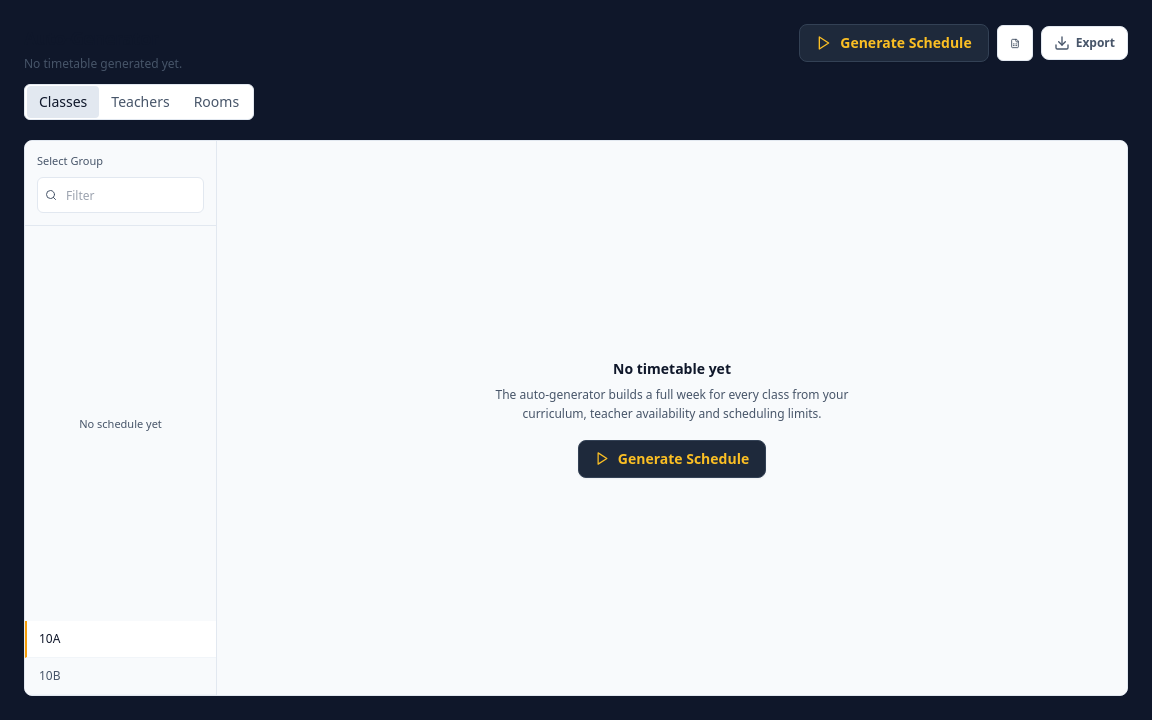
Test: GeneratorView › should toggle to teacher view
Switch to teacher view
Click the button "Teachers": (140, 102) [99, 86, 182, 118]
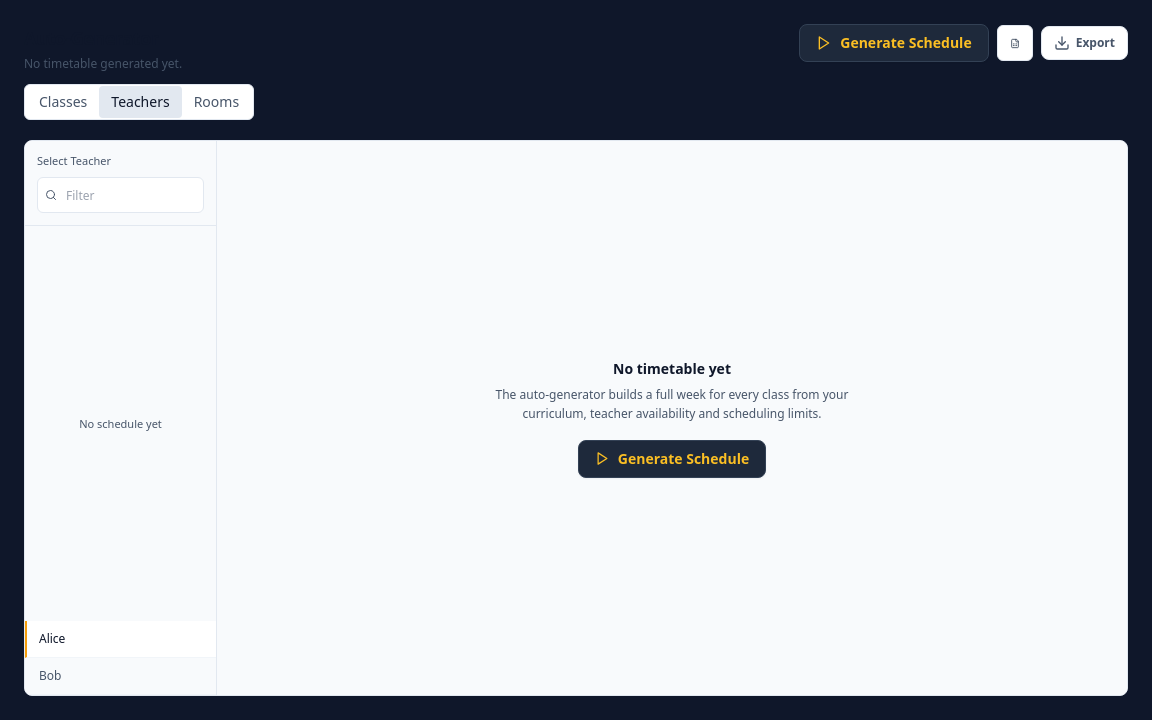
Expected: the text "Select Teacher" is shown, [37, 153, 111, 168]
Expected: the text "Alice" is shown, [39, 630, 65, 647]
Expected: the text "Bob" is shown, [39, 667, 62, 684]
